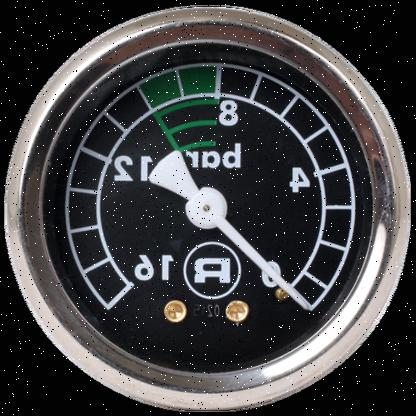needle: (216, 217, 311, 311)
